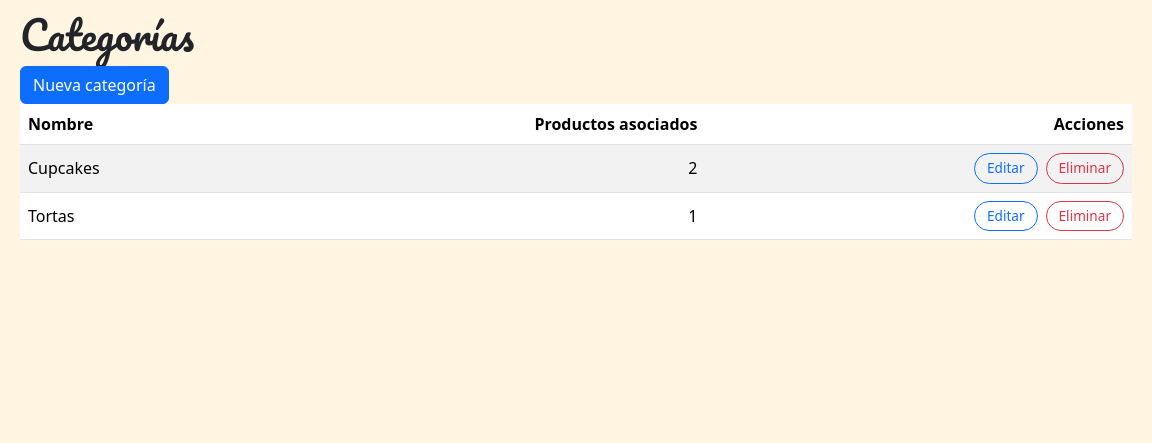
Admin - Categories › TAU-Admin 23: Permite crear una nueva categoría
This screenshot has width=1152, height=443.
Click the button "Nueva categoría". click: [94, 85]
box: [20, 66, 169, 104]
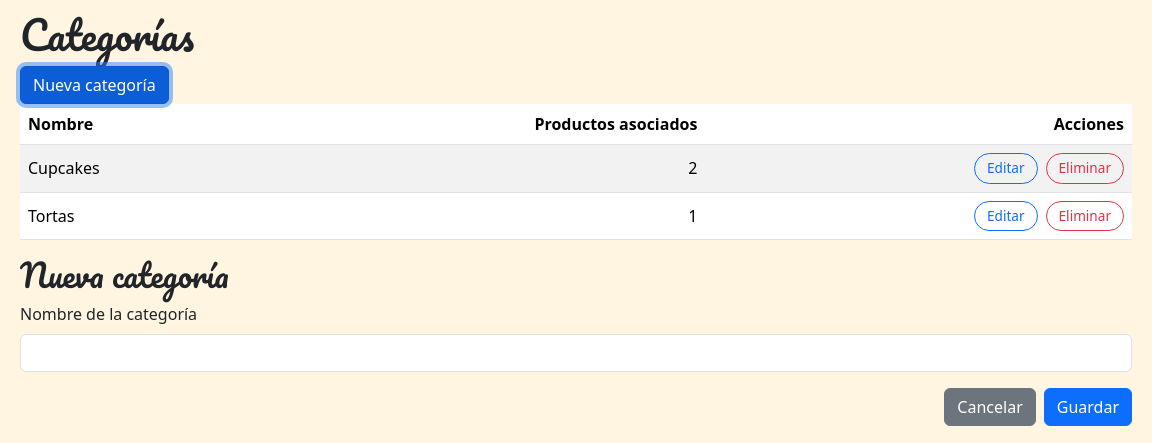
Type "Galletas" into the field. click: [576, 353]
box: [20, 334, 1132, 372]
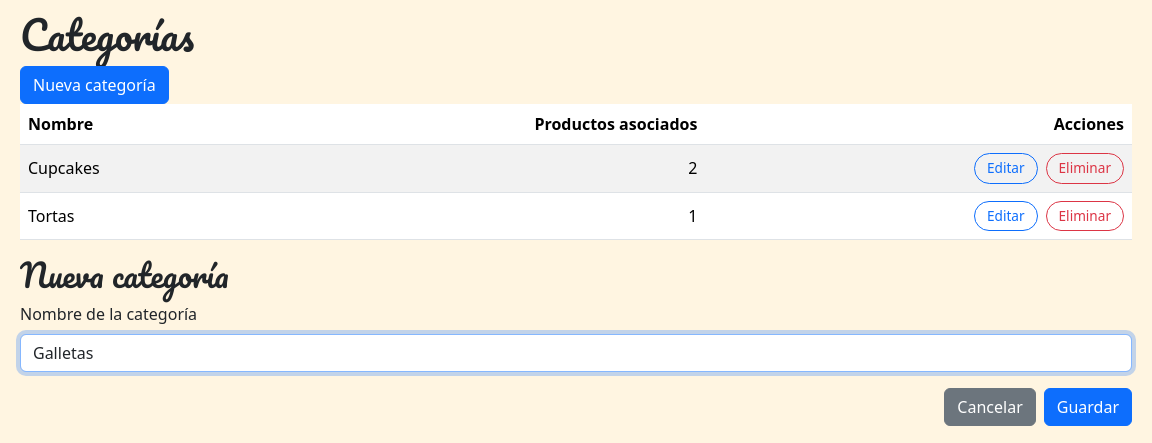
Click the button "Guardar". click: [1088, 407]
box: [1044, 388, 1132, 426]
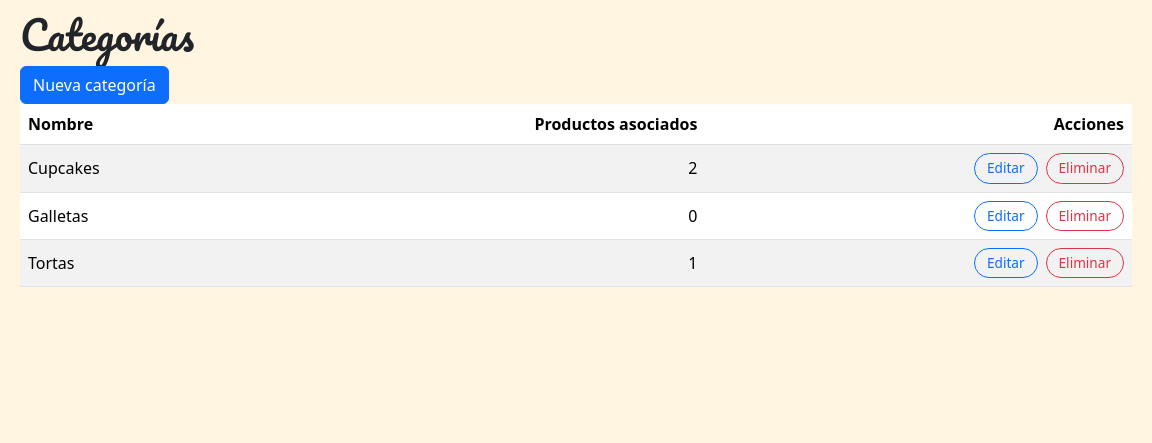
Expected: the text "Galletas" is shown, [20, 192, 245, 239]
